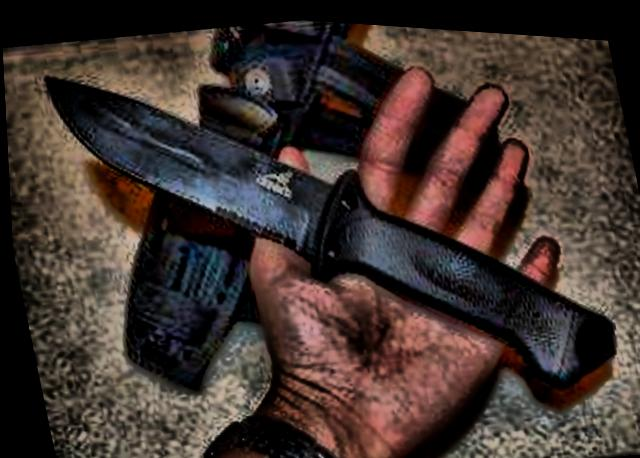knife: (29, 17, 385, 324)
